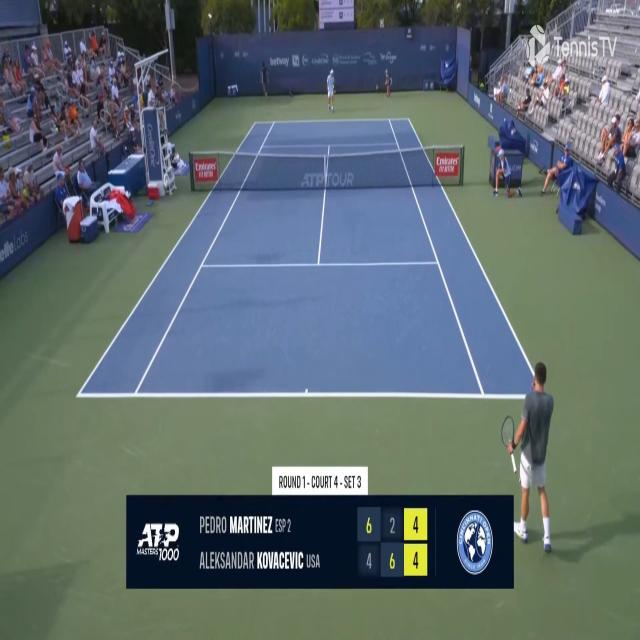tennis-player: (500, 359, 556, 554), (326, 67, 337, 113)
